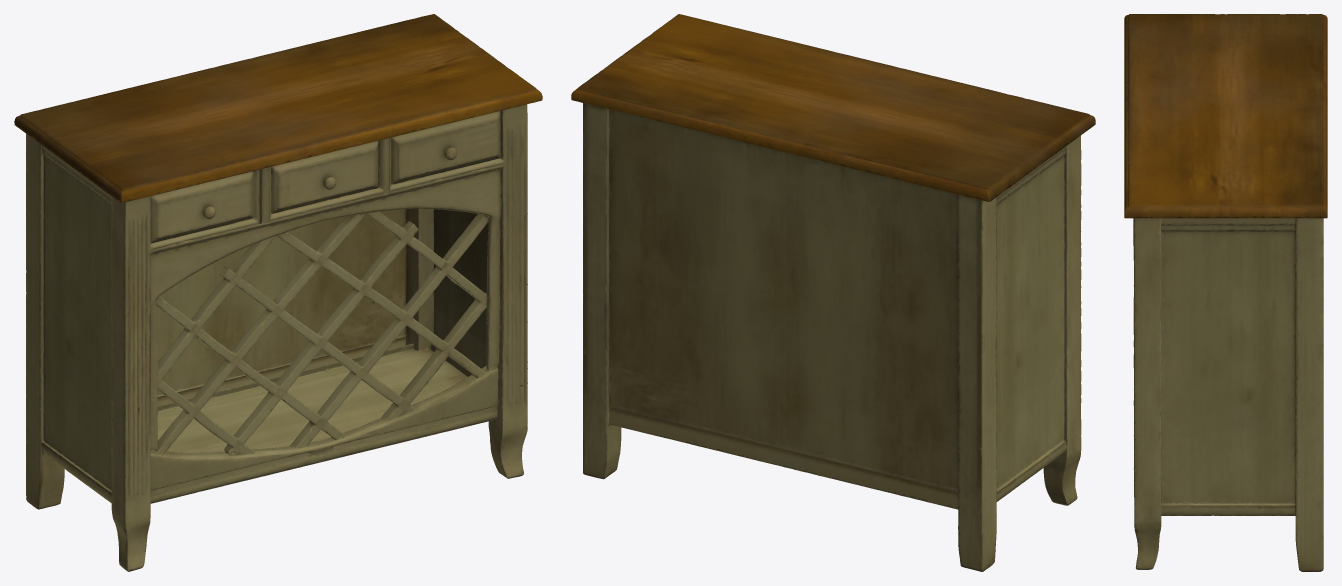
File: rustic_wine_bar_cabinet_kcu0qz.glb
The picture shows the model from 3 angles, left to right: view 1: azimuth 30°, elevation 25°; view 2: azimuth 150°, elevation 25°; view 3: azimuth 270°, elevation 25°; orthographic projection. The views are drawn at different scales.
Visible parts, largest first — view 1: world; view 2: world; view 3: world.
Boxes of the visible parts, x1,y1,x2,y2 form: world: (14,14,542,571); world: (571,14,1095,571); world: (1124,14,1327,571).
Size of the model in its own units: 1 by 0.8834 by 0.4411.
Materials: 1 (1 with a texture image).
